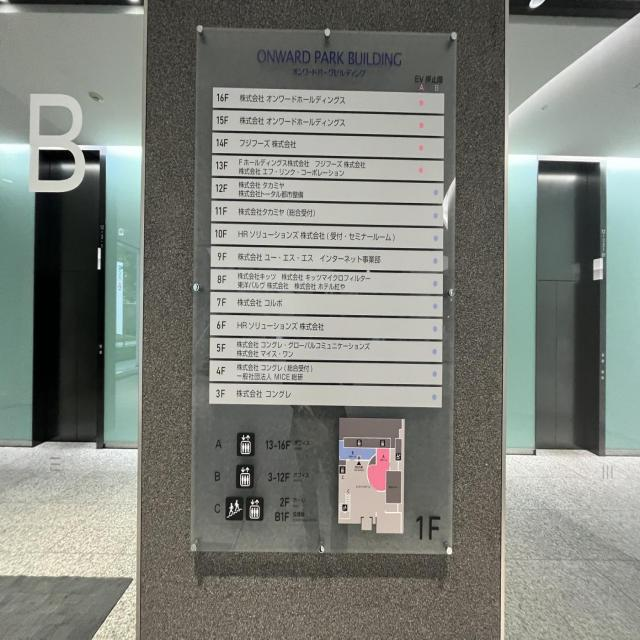building: (256, 45, 406, 80)
facility: (237, 227, 399, 245), (236, 251, 384, 266), (237, 90, 348, 108), (237, 114, 349, 131), (236, 339, 372, 350), (237, 205, 317, 220), (238, 167, 346, 178), (236, 319, 326, 332), (281, 271, 372, 283), (238, 137, 299, 152), (236, 362, 314, 373), (234, 388, 295, 402), (237, 157, 311, 168), (236, 372, 304, 381), (238, 190, 305, 199), (314, 159, 367, 169), (236, 297, 284, 308), (236, 349, 294, 358), (238, 180, 285, 190), (237, 281, 289, 290), (294, 282, 346, 291), (237, 271, 277, 280)
floor: (215, 158, 230, 174), (215, 90, 230, 105), (214, 136, 230, 150), (215, 182, 230, 195), (214, 205, 229, 218), (214, 318, 229, 331), (213, 228, 229, 240), (216, 114, 230, 127), (215, 296, 228, 309), (215, 364, 228, 377), (214, 342, 228, 354), (216, 250, 228, 263), (216, 273, 228, 286), (214, 388, 227, 400)
